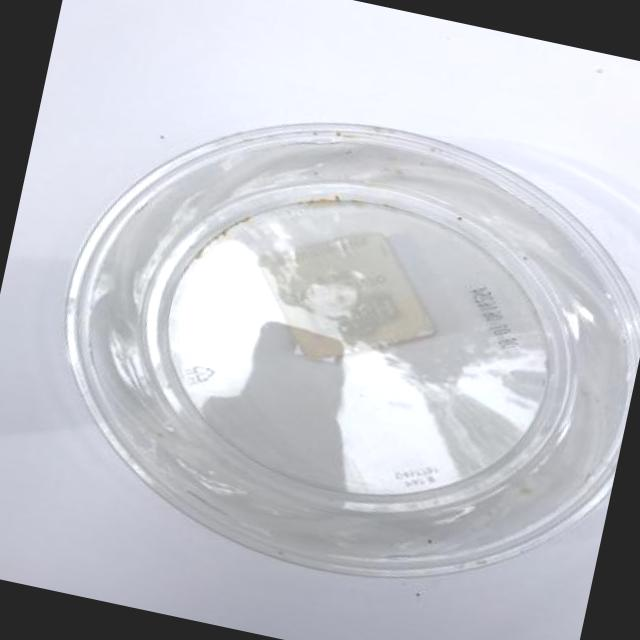plastic: (82, 81, 640, 620)
